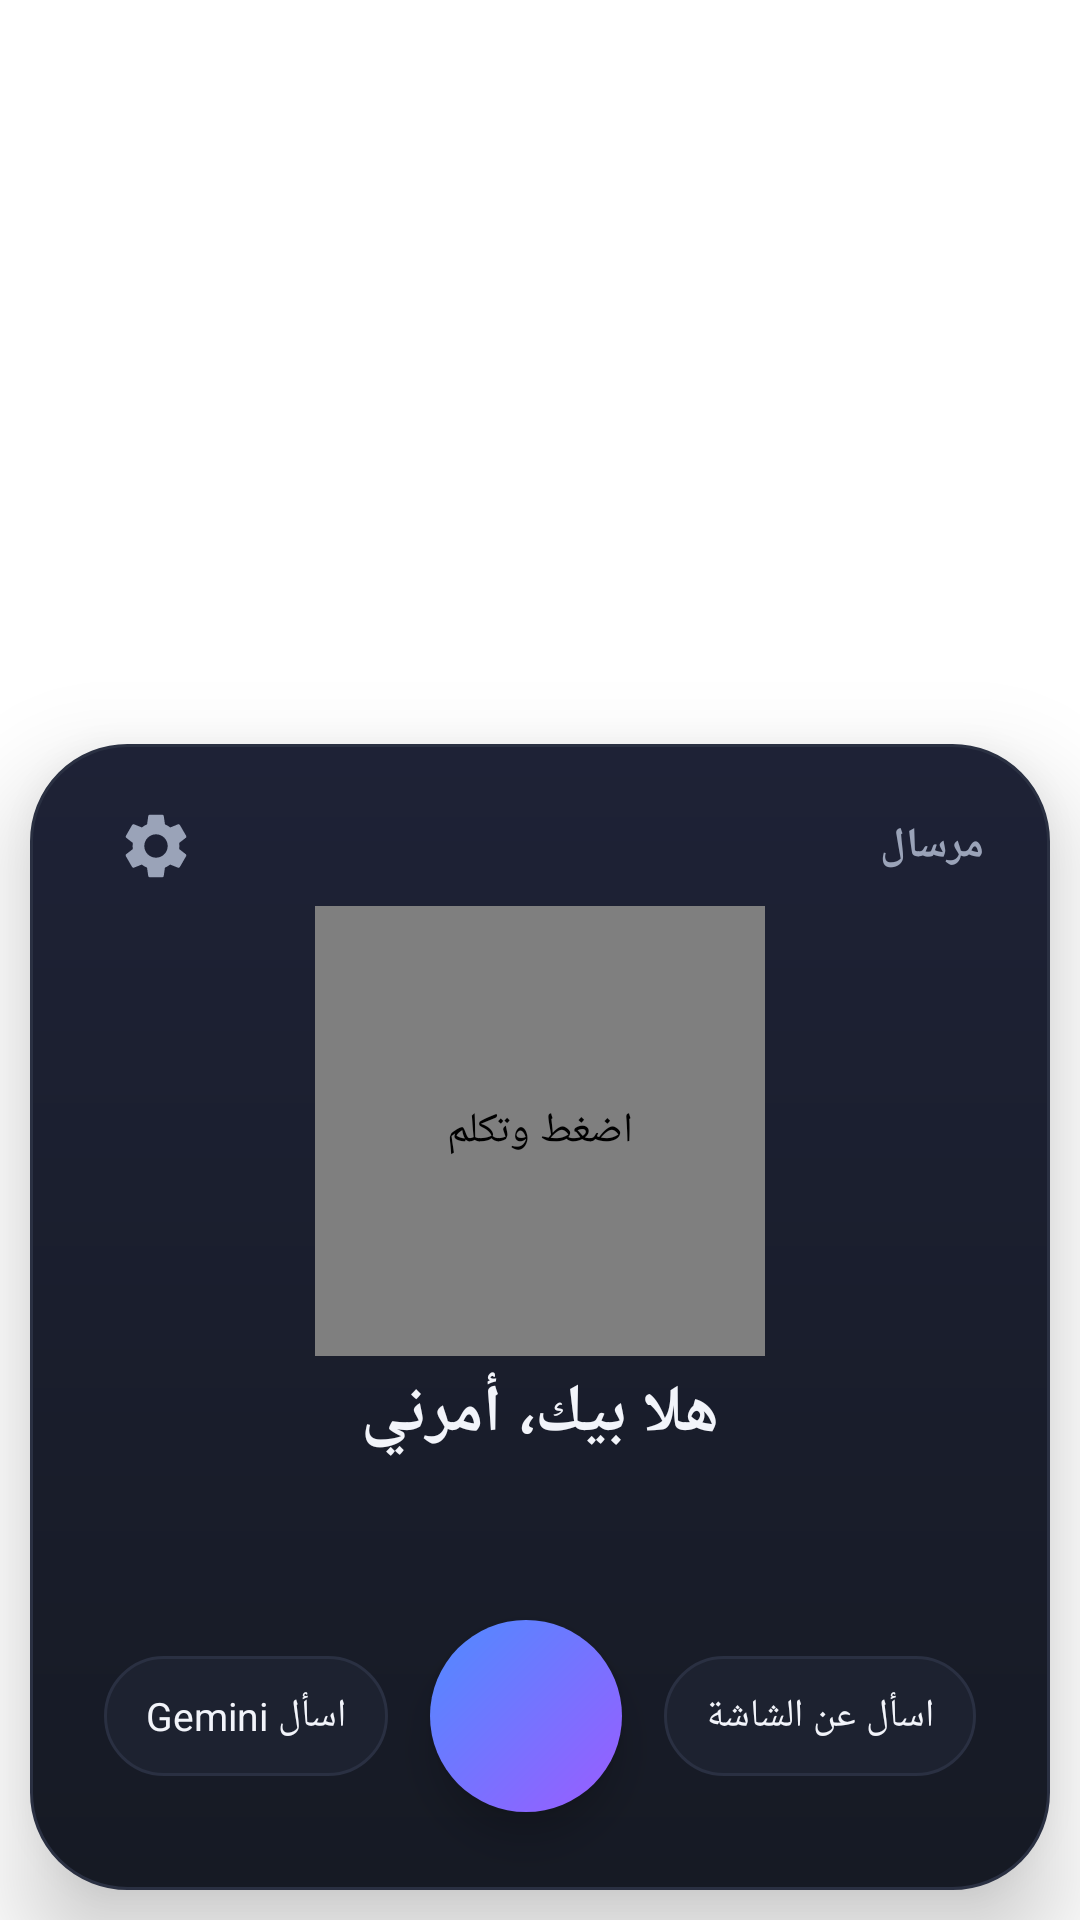

Icon bounding boxes for this 1080px x 1920px phone screenshot, format (x1=x1, y1=y1, x2=x2, y2=y2):
الإعدادات: (x1=125, y1=814, x2=187, y2=878)
